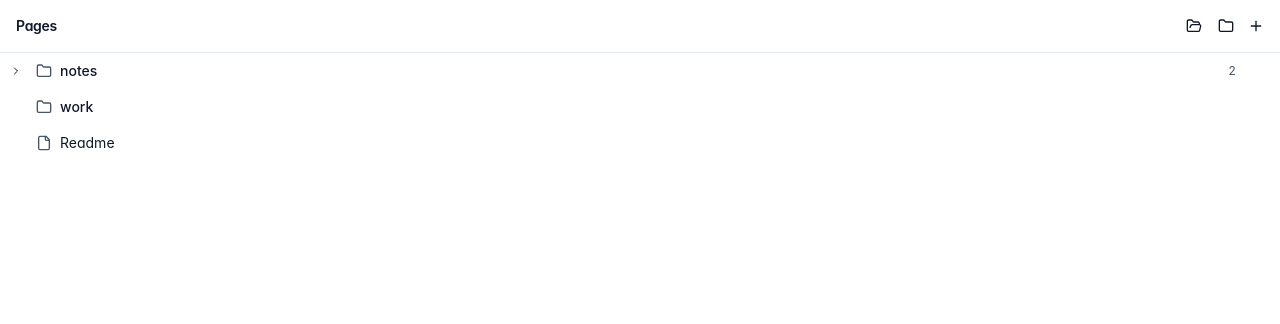
Test: FolderTree › keeps top-level pages visible when collapsing all
Click the button titled "Collapse all folders" at (1226, 26), box [1212,12,1240,40]
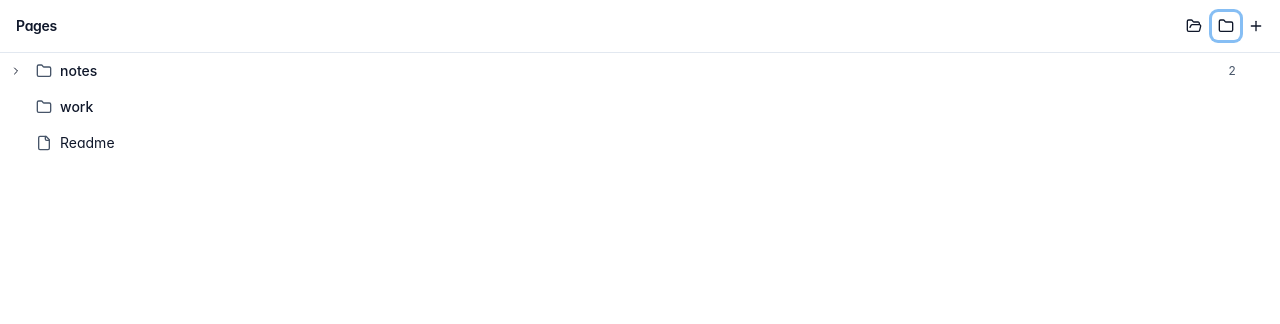
Expected: the text "Readme" is shown, [60,133,114,153]
Expected: the text "Today" is not shown
Click the button titled "Expand all folders" at (1194, 26), box [1180,12,1208,40]
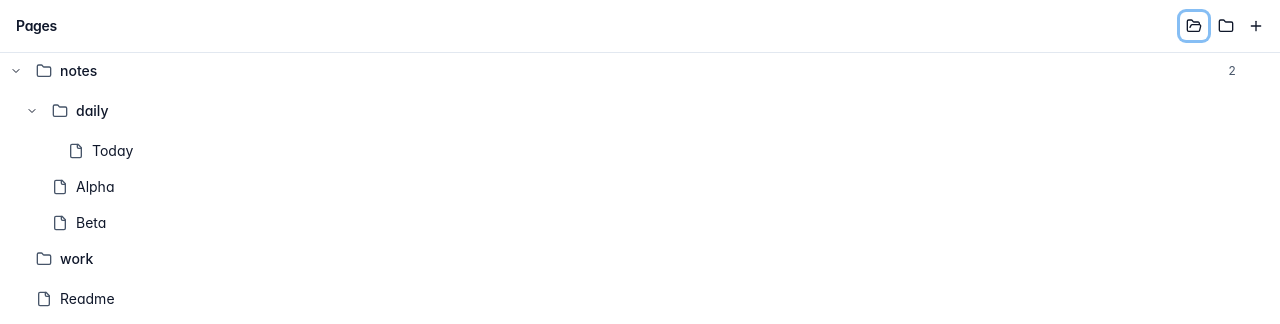
Result: the text "Today" is shown at [92,141,133,161]
